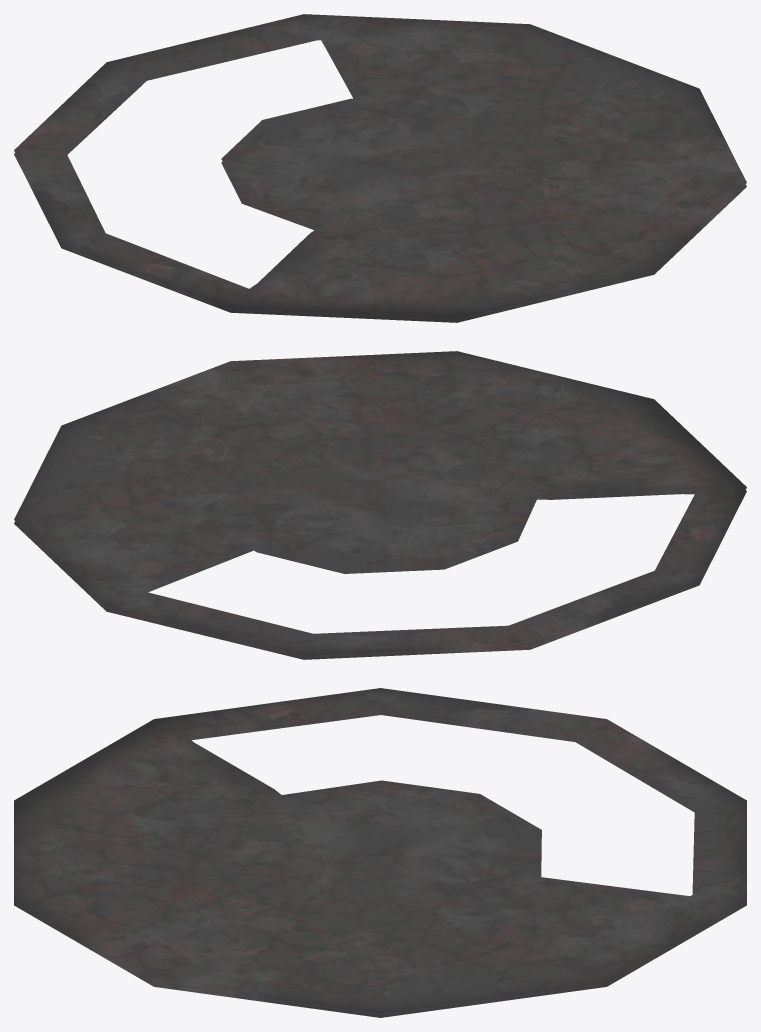
Rendered from F_Stairs_Corridor_perf.fbx.
3 views of the same model, one above another, from view 1: azimuth 30°, elevation 25°; view 2: azimuth 150°, elevation 25°; view 3: azimuth 270°, elevation 25° (orthographic). The views are drawn at different scales.
Visible parts, largest first — view 1: Circle.012; view 2: Circle.012; view 3: Circle.012.
Part boxes in pixels (x1,y1,x2,y2): Circle.012: (14, 14, 746, 322); Circle.012: (14, 351, 746, 659); Circle.012: (14, 688, 746, 1017).
Bounding box in the file's own units: 17.11 × 0.1037 × 16.27.
